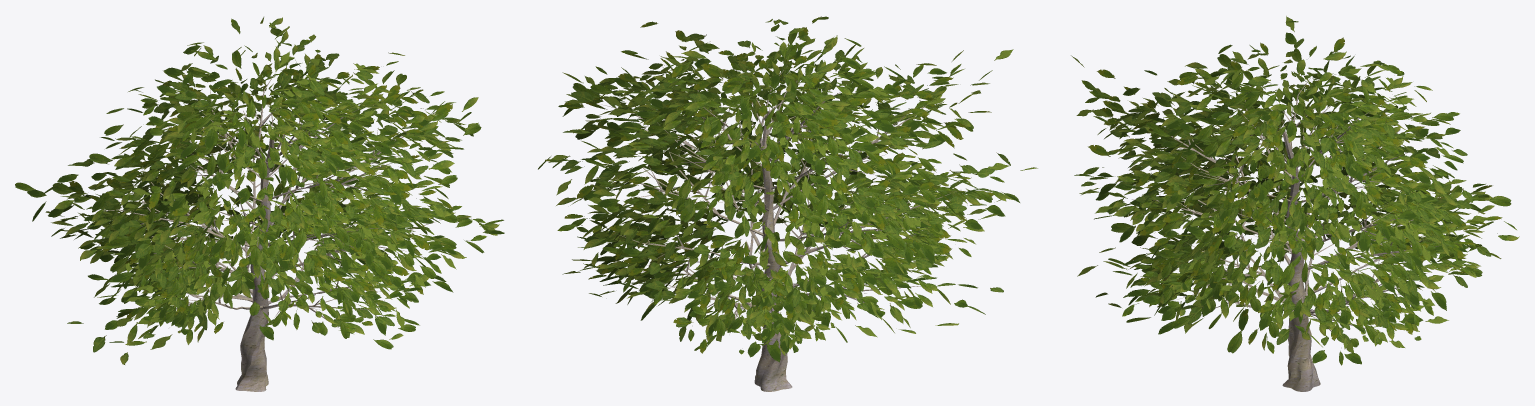
Rendered from tree_small.glb.
The picture shows the model from 3 angles, left to right: view 1: azimuth 30°, elevation 25°; view 2: azimuth 150°, elevation 25°; view 3: azimuth 270°, elevation 25°; orthographic projection. The views are drawn at different scales.
Parts seen in each view (by area): view 1: tree_small; view 2: tree_small; view 3: tree_small.
Part boxes in pixels (x1,y1,x2,y2): tree_small: (15, 17, 504, 391); tree_small: (538, 16, 1037, 391); tree_small: (1071, 16, 1519, 391).
Size of the model in its own units: 3.58 by 2.68 by 3.28.
2 materials, 2 textured.
